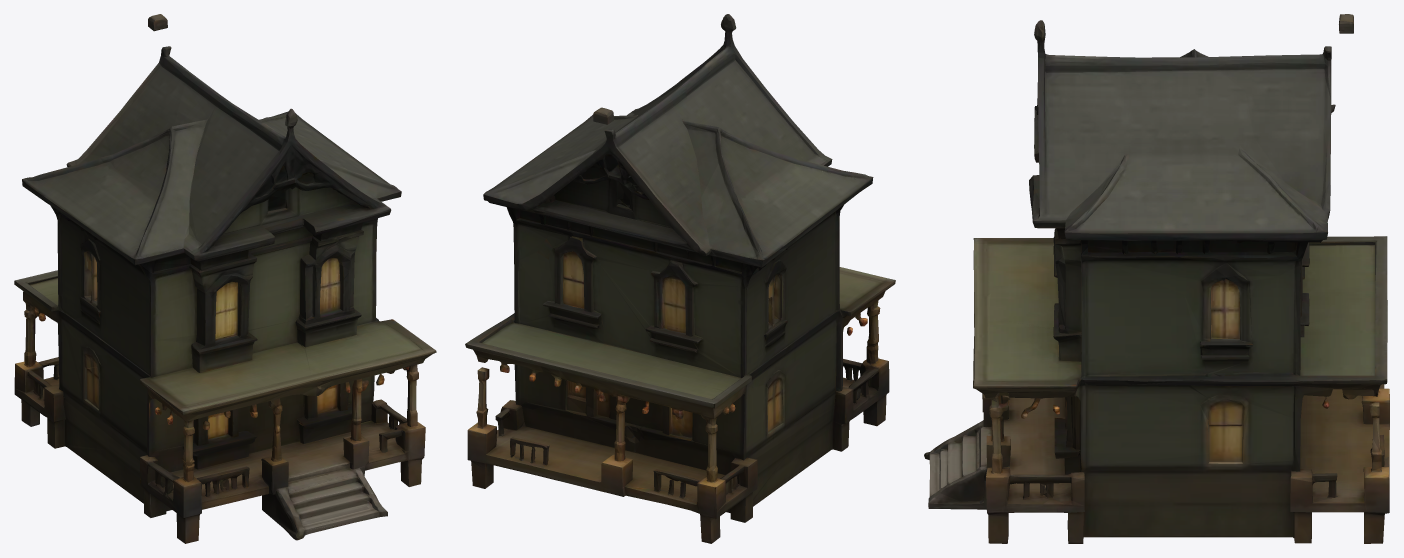
Rendered from house_victorian_dark_green.glb.
The picture shows the model from 3 angles, left to right: view 1: azimuth 30°, elevation 25°; view 2: azimuth 150°, elevation 25°; view 3: azimuth 270°, elevation 25°; orthographic projection. The views are drawn at different scales.
Visible parts, largest first — view 1: geometry_0; view 2: geometry_0; view 3: geometry_0.
Part boxes in pixels (bbox=[...]): geometry_0: bbox=[14, 14, 436, 543]; geometry_0: bbox=[465, 14, 895, 543]; geometry_0: bbox=[924, 14, 1389, 543].
Bounding box in the file's own units: 0.7382 × 0.9998 × 0.915.
Materials: 1 (1 with a texture image).
